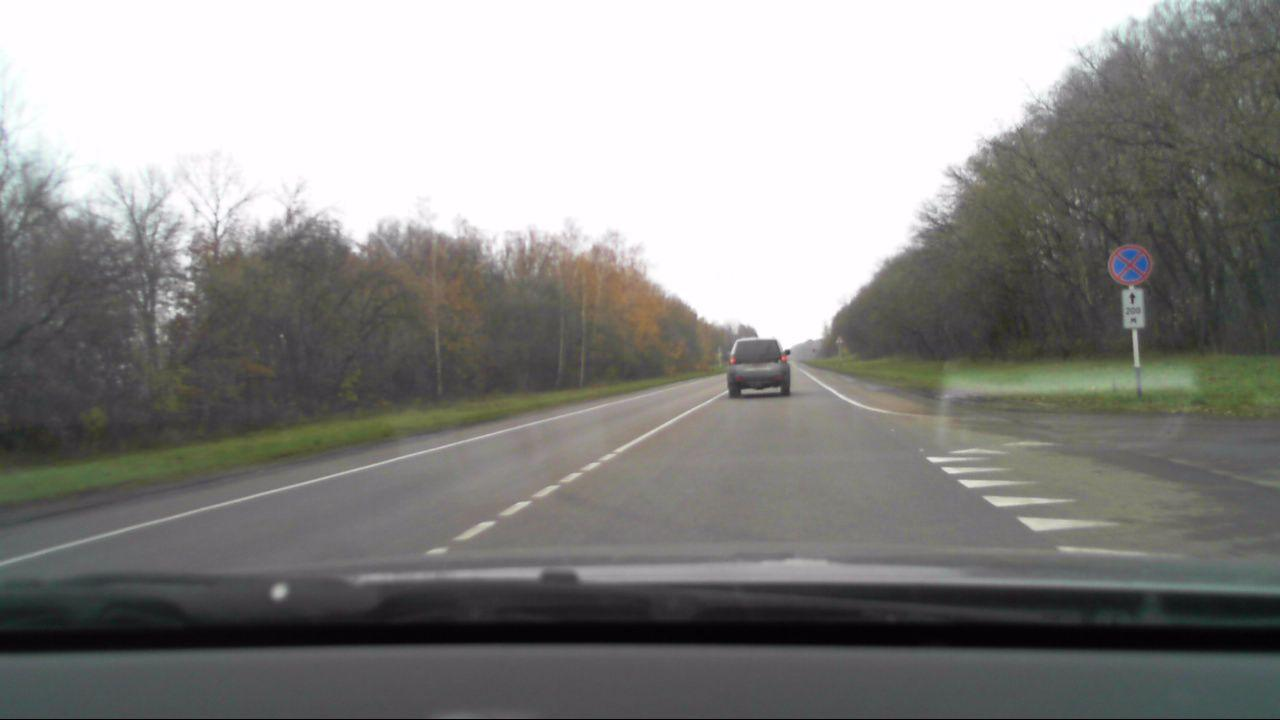3_27: (1107, 243, 1151, 285)
8_2_2: (1122, 288, 1146, 327)
